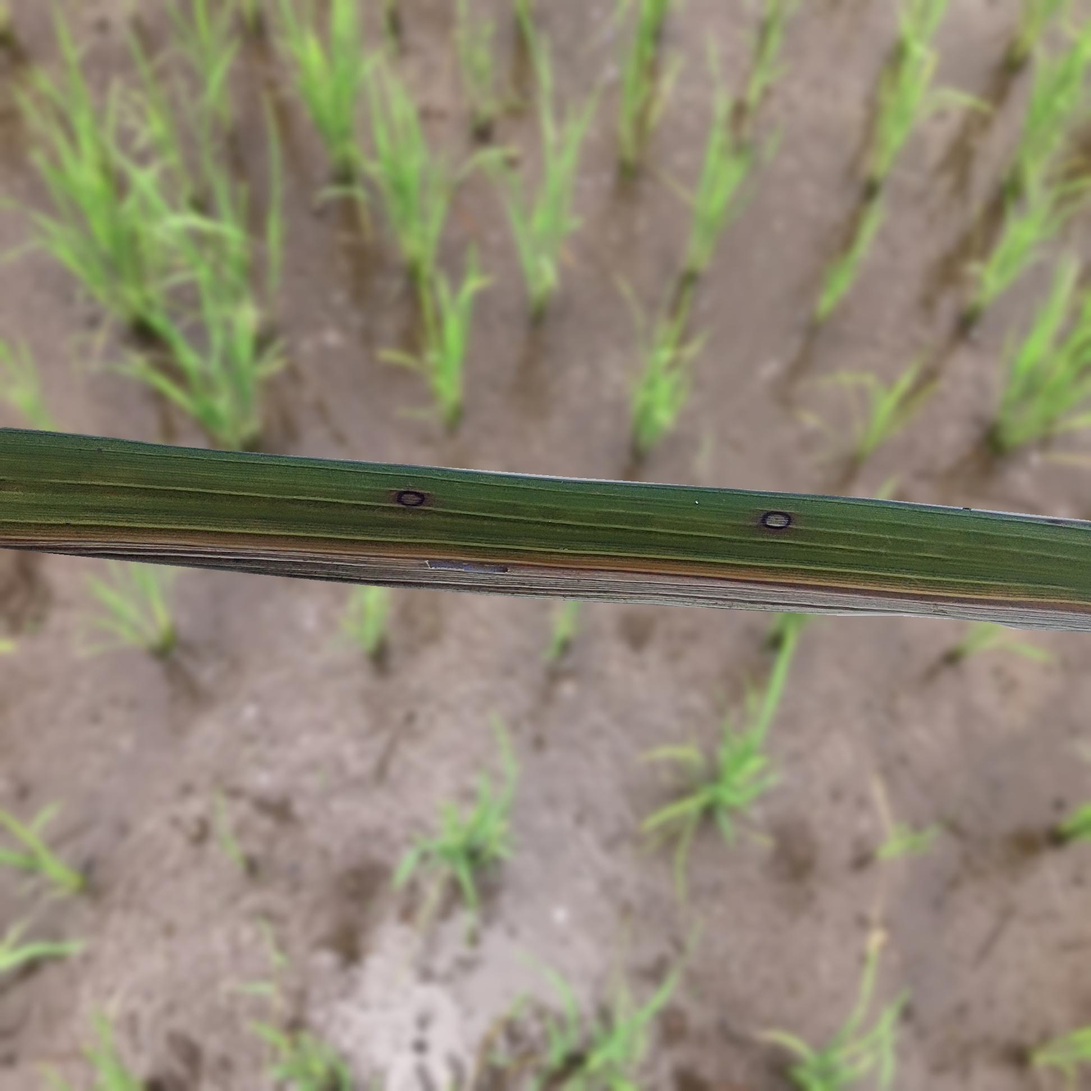LEAF BLAST: (761, 511, 792, 530), (397, 491, 424, 506)
